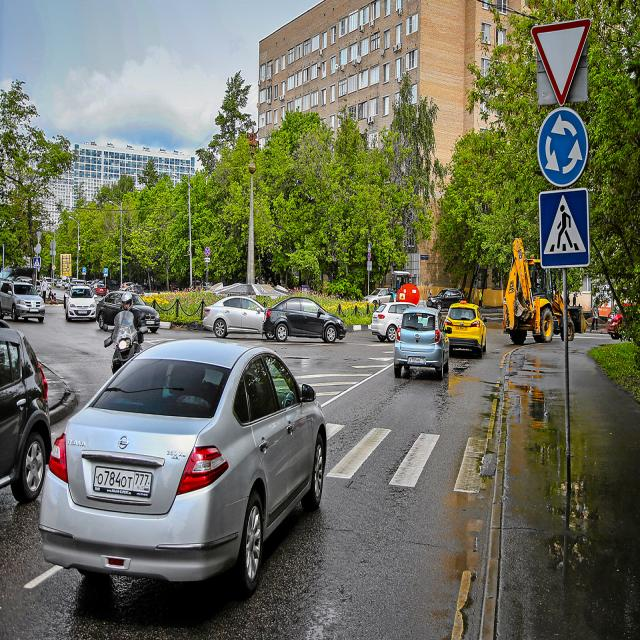roundabout: (538, 110, 588, 184)
